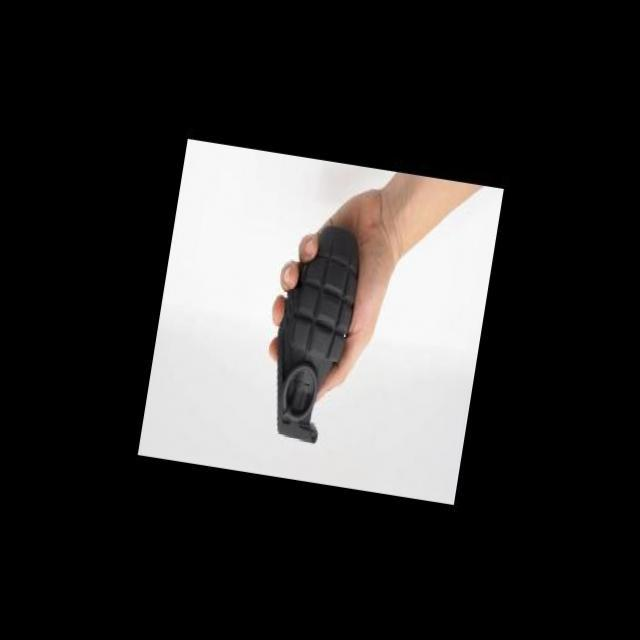grenade: (255, 194, 366, 453)
